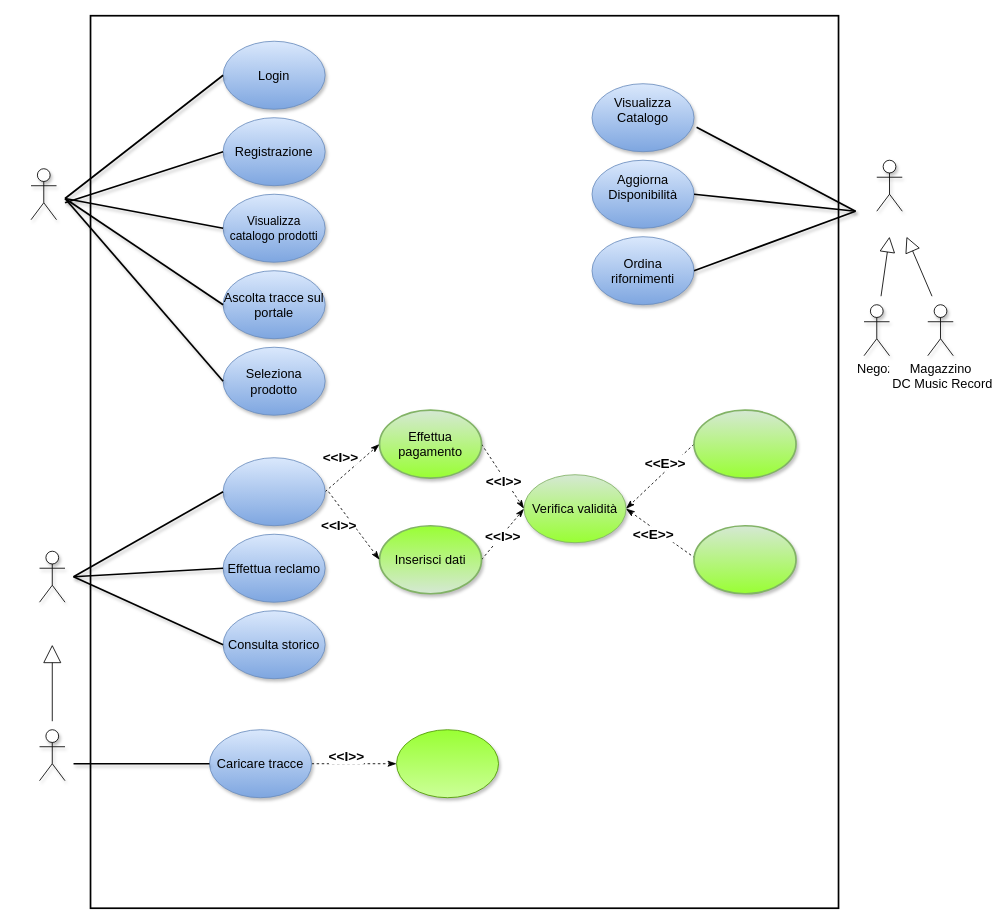
This 1007x923 diagram has some shape labels left out. The centre of each missing label's shape, as x and y in pixels:
"Artista Autenticato" goes at point (52, 756).
"Decisione approvazione" goes at point (448, 764).
"Gestori" goes at point (890, 186).
"Ordina prodotti" goes at point (274, 492).
"Ritiro punto vendita" goes at point (745, 560).
"Spedizione a domicilio" goes at point (745, 444).
"Utente autenticato" goes at point (52, 577).
"Utente Generico" goes at point (44, 195).
